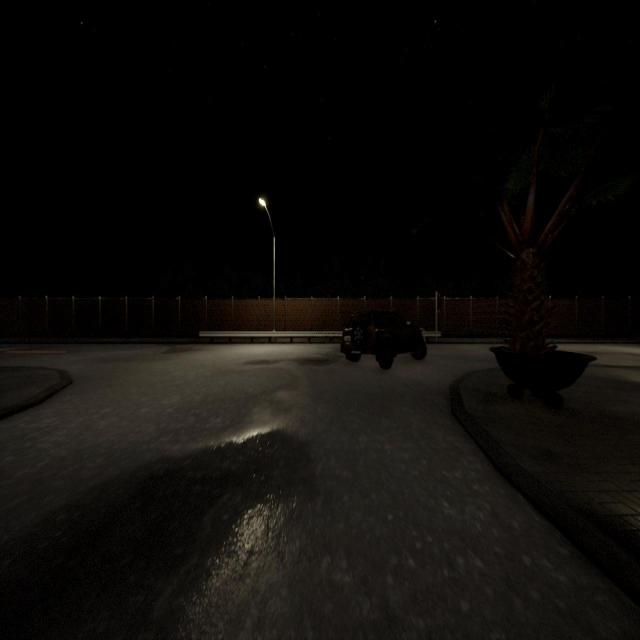Vehicle: (341, 309, 427, 370)
traffic_light: (437, 297, 441, 309)
